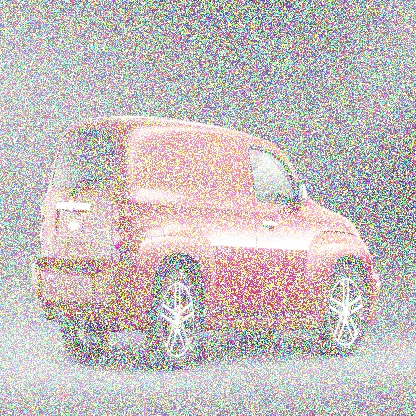Vehicle: (32, 115, 380, 371)
